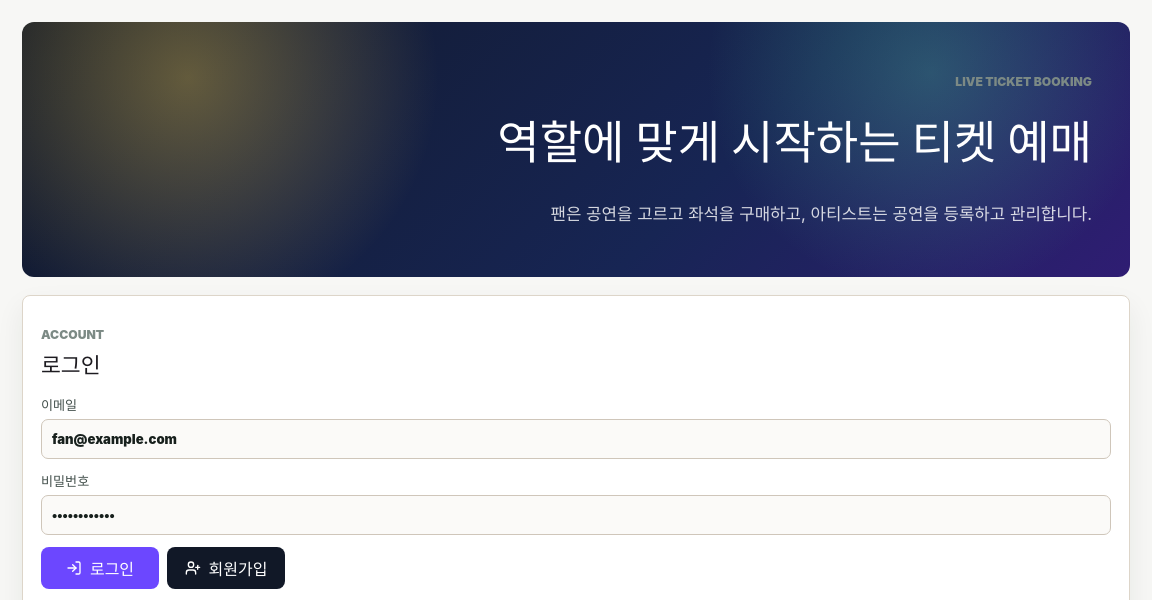
Test: Ticket frontend › loads section summary before loading seats for a selected section
This screenshot has width=1152, height=600.
Click the button "로그인": {"x": 100, "y": 568} [41,548,159,590]
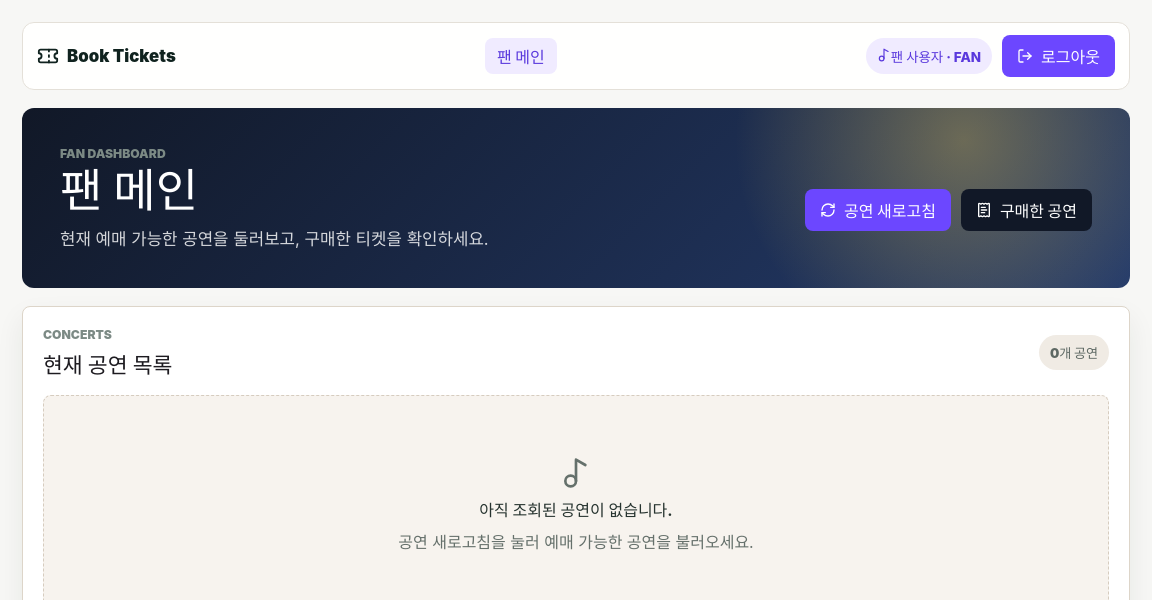
Now the heading "팬 메인" is shown, box [60,162,198,218]
Click the button "공연 새로고침": {"x": 878, "y": 210} [805,189,951,231]
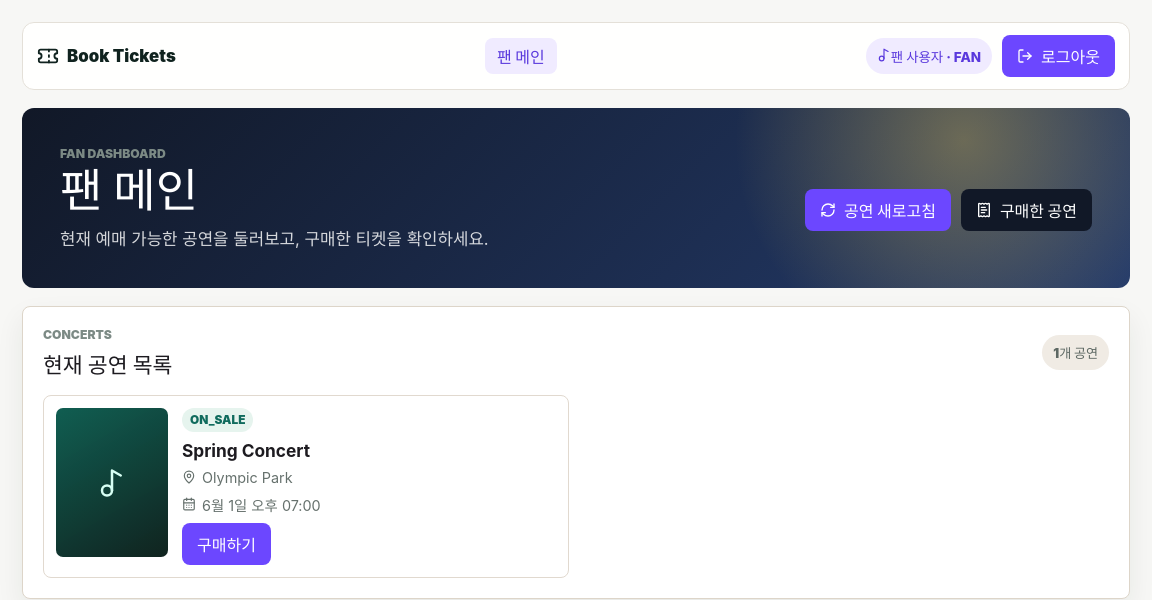
Click the button "구매하기": {"x": 226, "y": 544} [182,523,271,565]
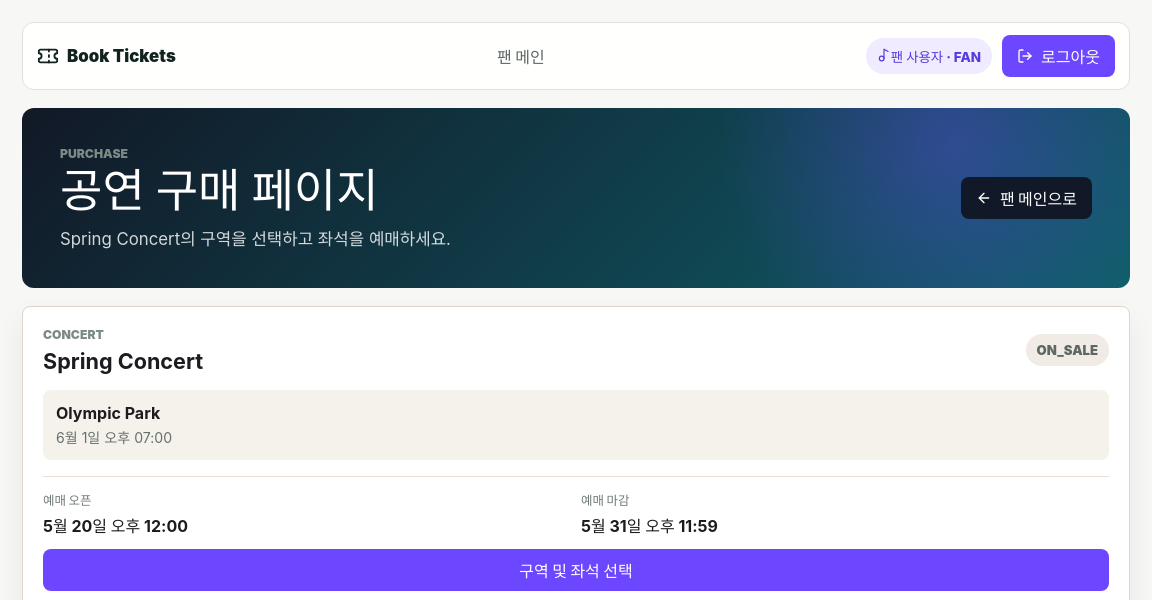
Click the button "구역 및 좌석 선택": {"x": 576, "y": 570} [43,549,1109,591]
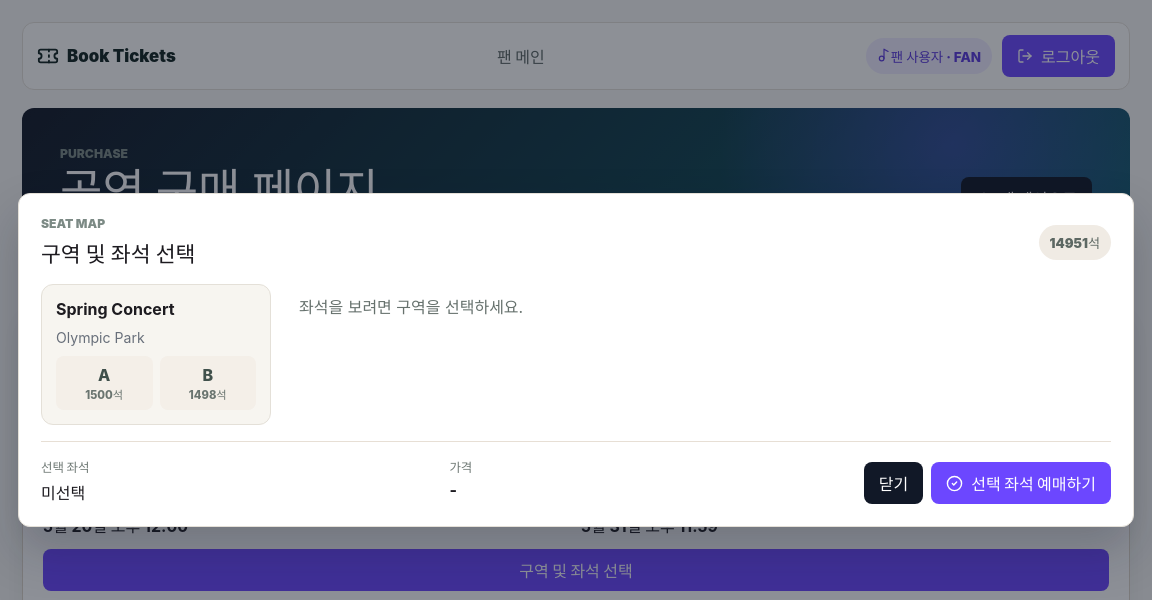
Now the text "14951석" is shown, box [1038,224,1111,260]
Click the button "A 1500석": {"x": 104, "y": 383} [56,356,152,410]
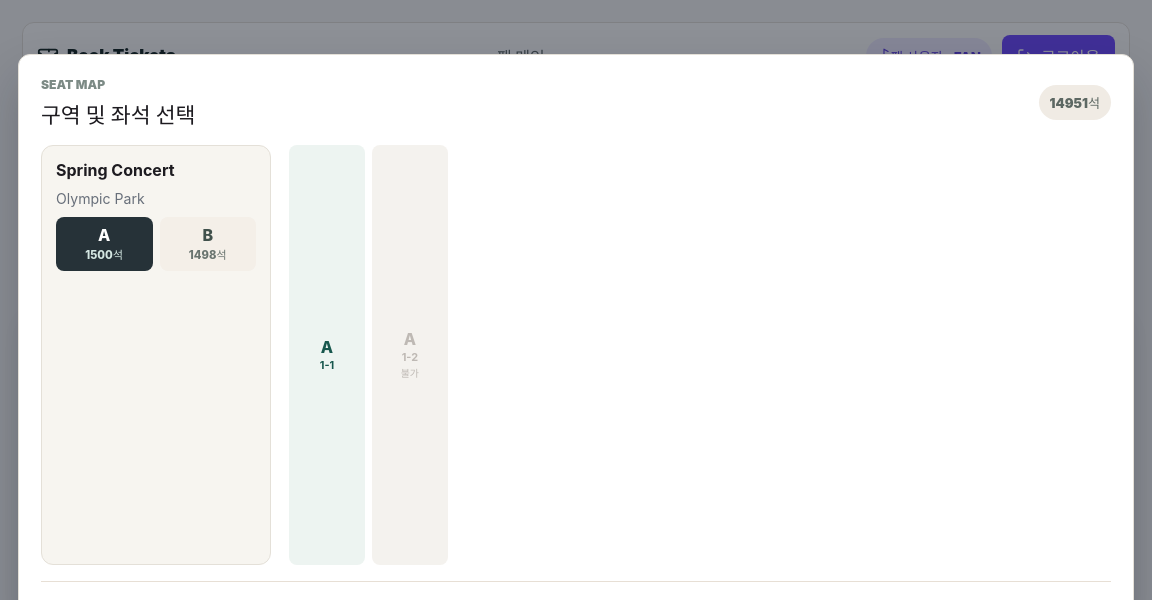
Now the text "1-1" is shown, box [320,358,334,372]
Now the button "A 1-2" is disabled, box [372,144,448,564]
